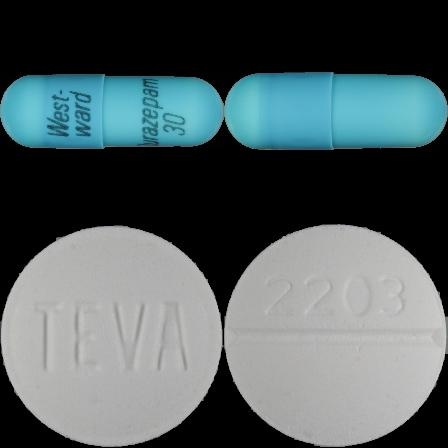68788-0408: (0, 0, 224, 224)
